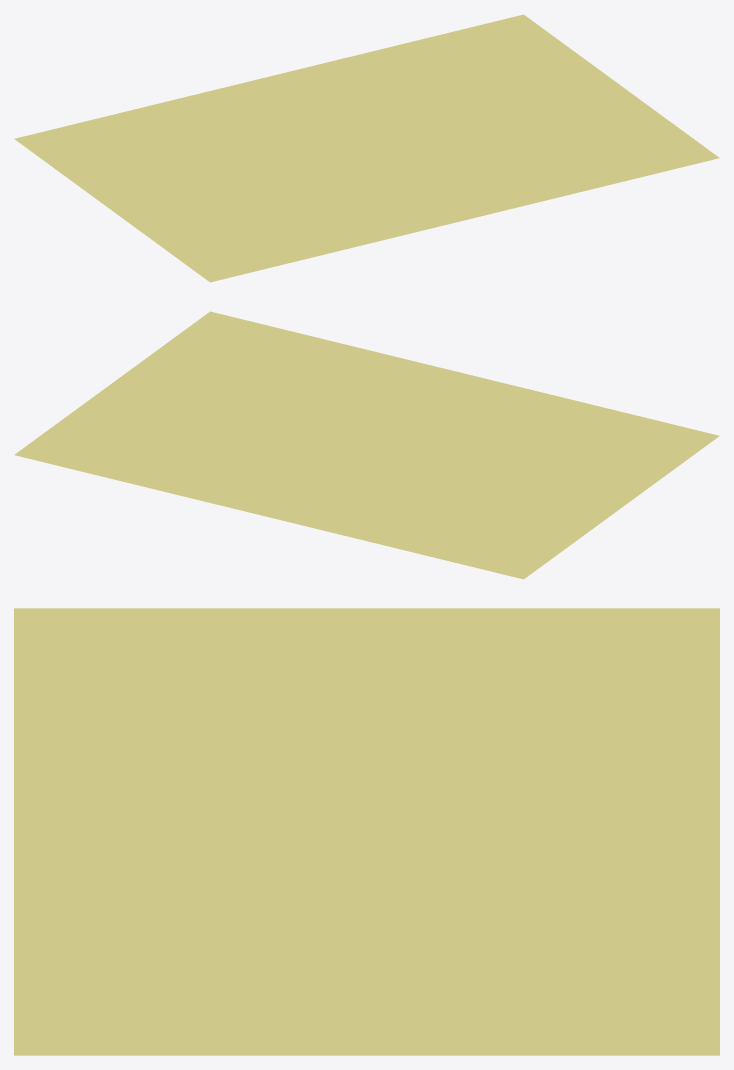
Rendered from Ceiling_3x_2x.FBX.
The picture shows the model from 3 angles, top to bottom: view 1: azimuth 30°, elevation 25°; view 2: azimuth 150°, elevation 25°; view 3: azimuth 270°, elevation 25°; orthographic projection. The views are drawn at different scales.
Visible parts, largest first — view 1: Ceiling_3x_2x; view 2: Ceiling_3x_2x; view 3: Ceiling_3x_2x.
Boxes of the visible parts, x1,y1,x2,y2 form: Ceiling_3x_2x: (14, 14, 719, 282); Ceiling_3x_2x: (14, 311, 719, 579); Ceiling_3x_2x: (14, 608, 719, 1055).
Size of the model in its own units: 300 by 200 by 8.74e-06.
